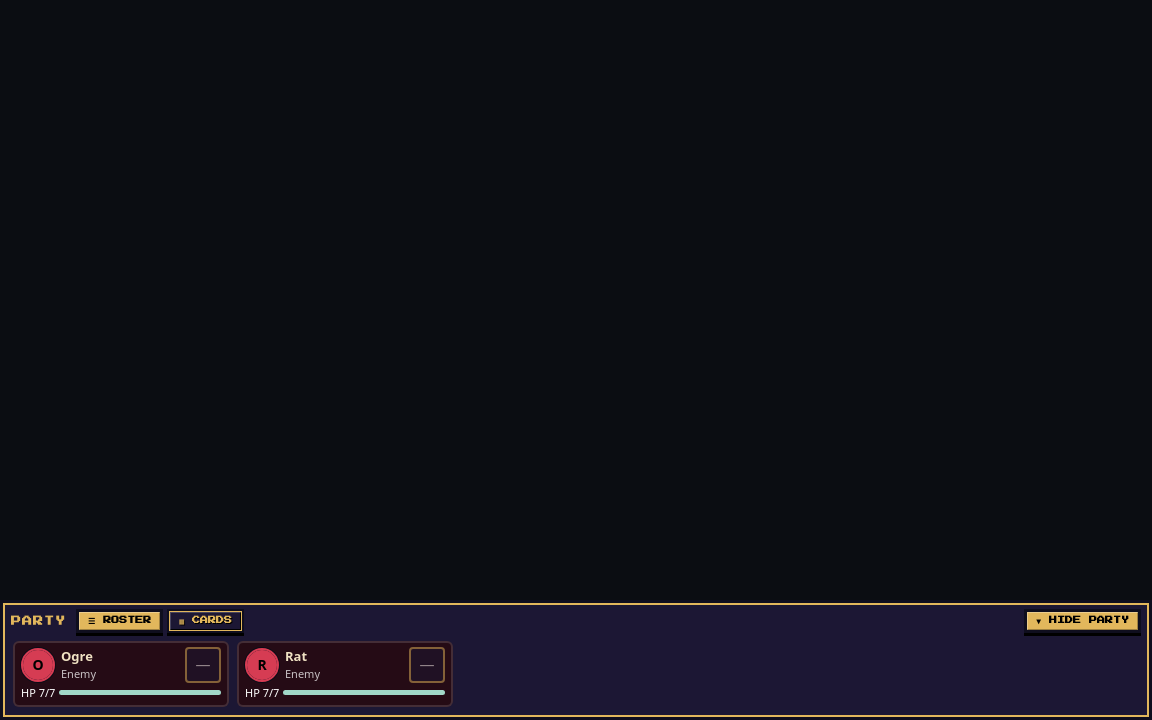
Test: EntitiesPanel — the initiative dialog follows its character › closes when its character is deleted
The image size is (1152, 720).
Click the button "▦ Cards": (206, 620) [167, 608, 244, 632]
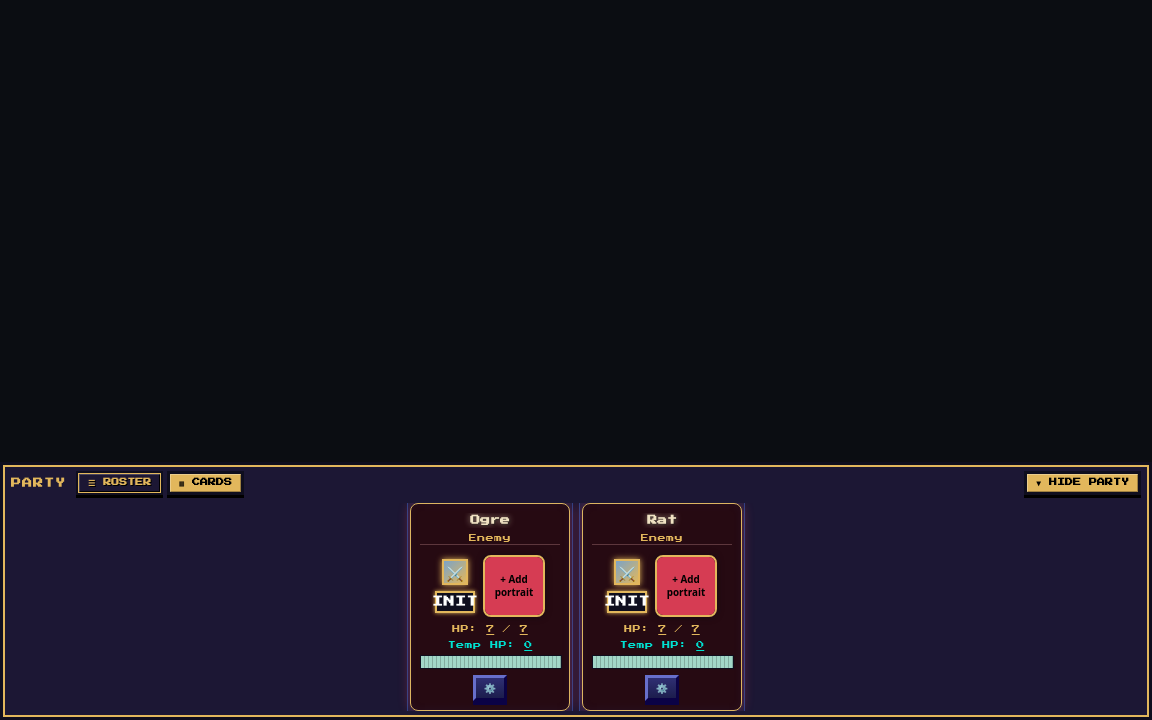
Click the button with aria-label "Set Initiative": (455, 602) [435, 591, 475, 613]
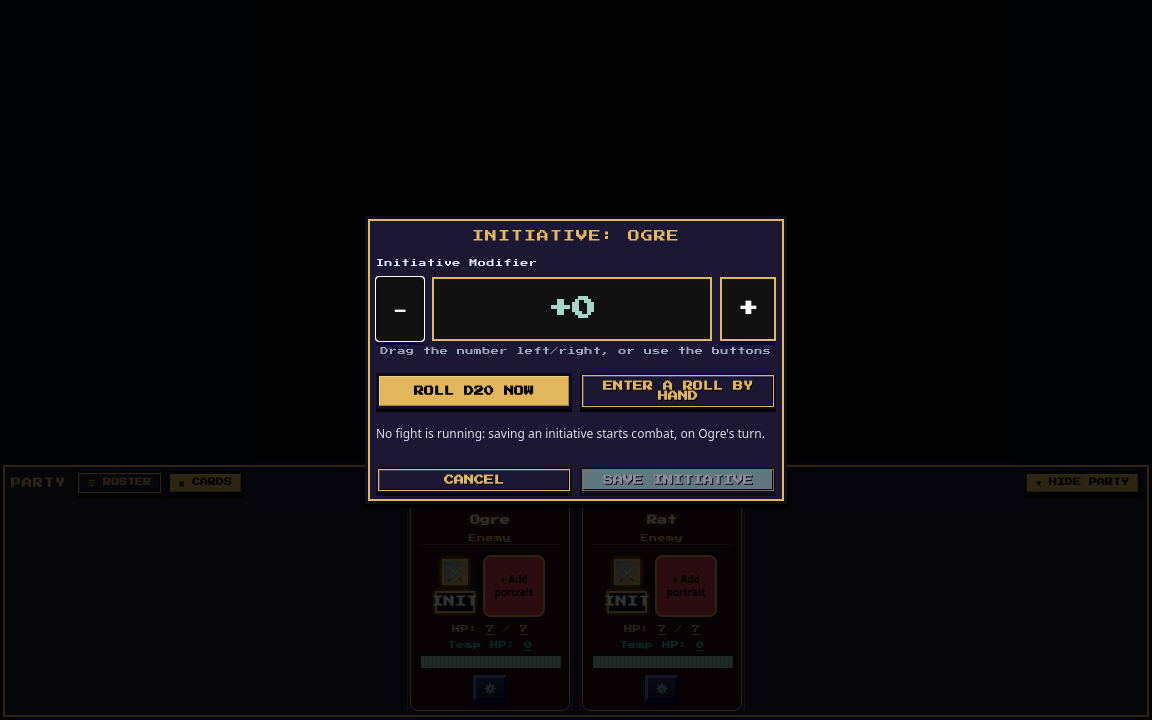
expect the text "Initiative: Ogre" is shown: met, box [472, 230, 680, 242]
